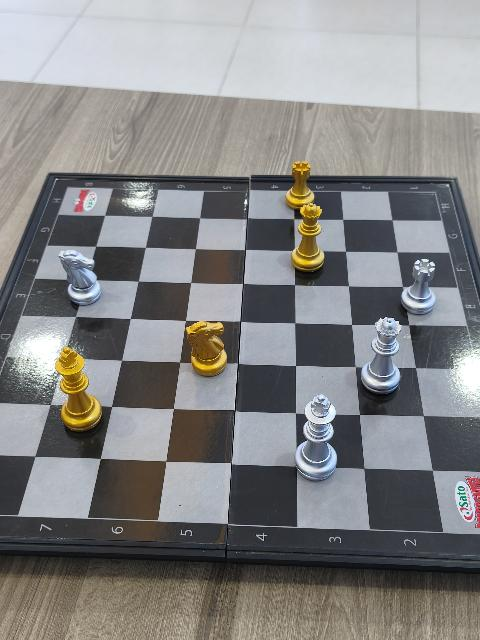black_king: (54, 347, 103, 434)
black_knight: (184, 319, 229, 379)
black_queen: (292, 204, 326, 274)
black_rook: (283, 161, 316, 205)
white_king: (294, 392, 340, 484)
white_knight: (58, 248, 104, 309)
white_queen: (359, 316, 404, 397)
white_rook: (401, 257, 438, 318)
